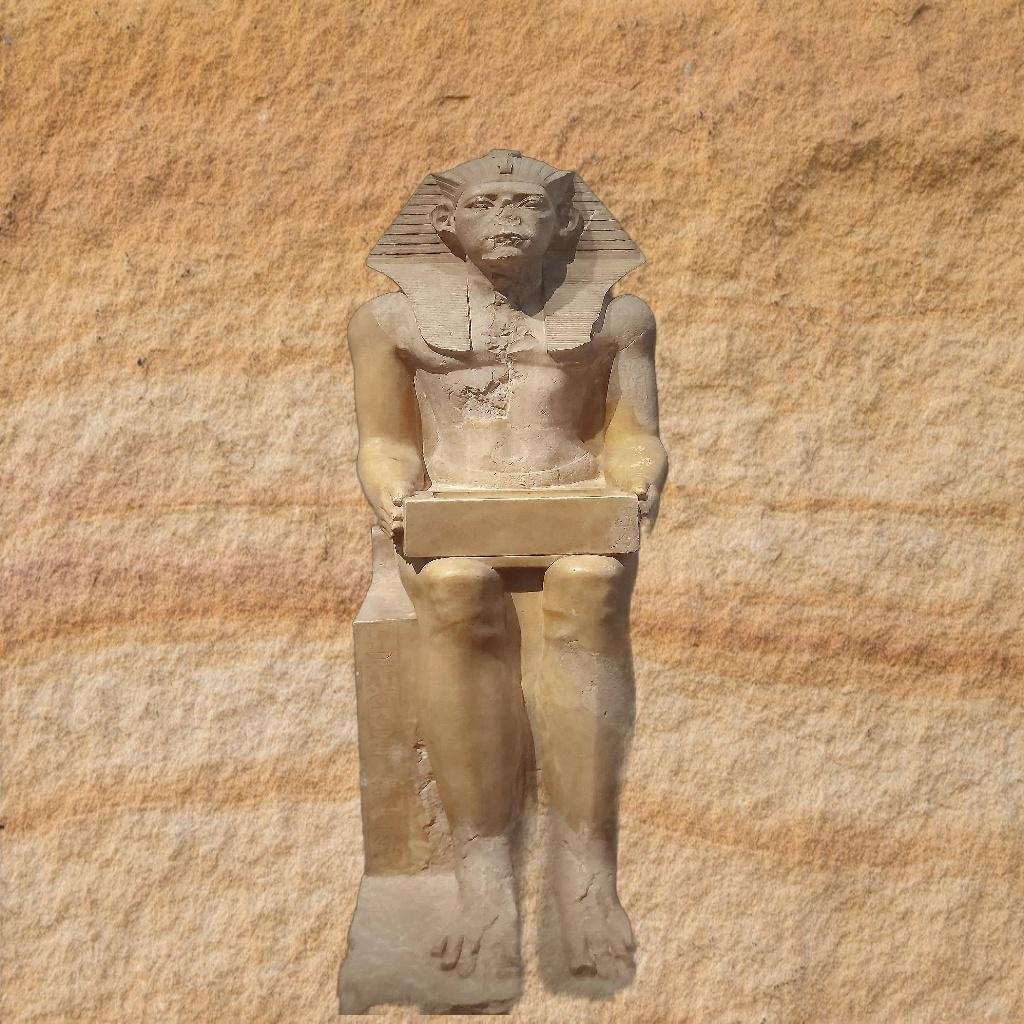Amenhotep III with Plate: (330, 146, 678, 1015)
